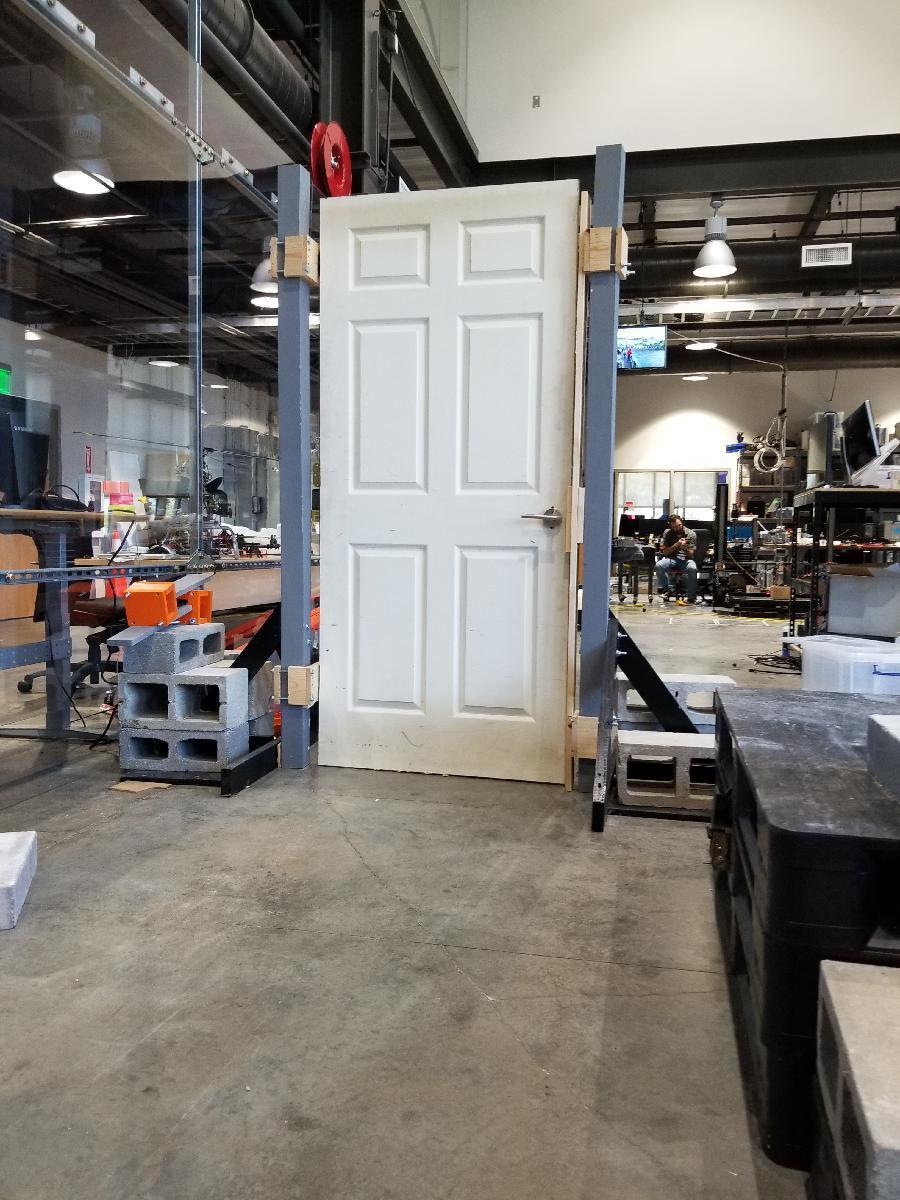door: (316, 196, 580, 776)
handle: (511, 501, 572, 540)
